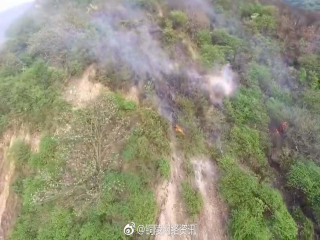smoke: (139, 45, 252, 112)
